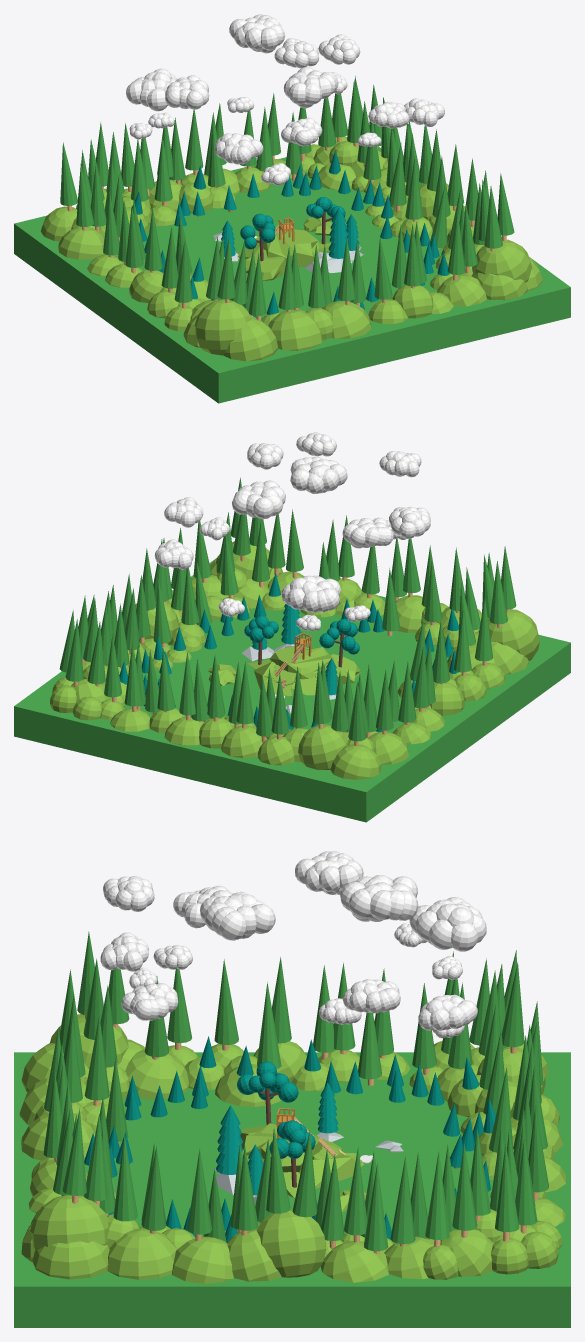
Rendered from Park by Zebo - 2gfLUNjAweB.glb.
The picture shows the model from 3 angles, top to bottom: view 1: azimuth 30°, elevation 25°; view 2: azimuth 150°, elevation 25°; view 3: azimuth 270°, elevation 25°; orthographic projection. The views are drawn at different scales.
Parts seen in each view (by area): view 1: group2123494094, group1983639999, group103032420, group326690430, group2143964812, group1534775267, group228104525, group1845525519, group615663769, group1793481236, group2064072457, group78521236 (+66 smaller); view 2: group2123494094, group1845525519, group228104525, group828367410, group2143964812, group1983639999, group627735632, group78521236, group615663769, group1319763883, group1676391642, group2064072457 (+71 smaller); view 3: group2123494094, group151860645, group326690430, group2143964812, group1845525519, group277578792, group228104525, group659244113, group627036967, group78521236, group483093079, group1513015141 (+81 smaller).
Part boxes in pixels (<box>): group2123494094: <box>14,146,570,403</box>; group1983639999: <box>194,299,251,355</box>; group103032420: <box>268,310,322,350</box>; group326690430: <box>472,239,532,282</box>; group2143964812: <box>229,14,285,53</box>; group1534775267: <box>223,317,277,361</box>; group228104525: <box>283,67,338,108</box>; group1845525519: <box>126,68,176,111</box>; group615663769: <box>263,229,318,267</box>; group1793481236: <box>322,301,371,338</box>; group2064072457: <box>58,226,104,259</box>; group78521236: <box>165,75,209,109</box>; group2123494094: <box>14,558,570,822</box>; group1845525519: <box>281,575,341,612</box>; group228104525: <box>290,456,347,493</box>; group828367410: <box>298,724,348,769</box>; group2143964812: <box>232,480,285,519</box>; group1983639999: <box>488,609,539,660</box>; group627735632: <box>330,744,381,779</box>; group78521236: <box>342,517,393,548</box>; group615663769: <box>269,645,333,679</box>; group1319763883: <box>389,506,430,538</box>; group1676391642: <box>221,725,266,758</box>; group2064072457: <box>368,732,409,764</box>; group2123494094: <box>14,1052,570,1327</box>; group151860645: <box>256,1209,326,1277</box>; group326690430: <box>30,1195,108,1250</box>; group2143964812: <box>340,875,418,921</box>; group1845525519: <box>409,897,486,951</box>; group277578792: <box>107,1228,176,1279</box>; group228104525: <box>200,890,275,940</box>; group659244113: <box>32,1241,109,1279</box>; group627036967: <box>172,1236,233,1283</box>; group78521236: <box>295,851,363,894</box>; group483093079: <box>125,1049,188,1099</box>; group1513015141: <box>227,1228,281,1281</box>.
Bounding box in the file's own units: 9.87 × 6.67 × 9.92.
